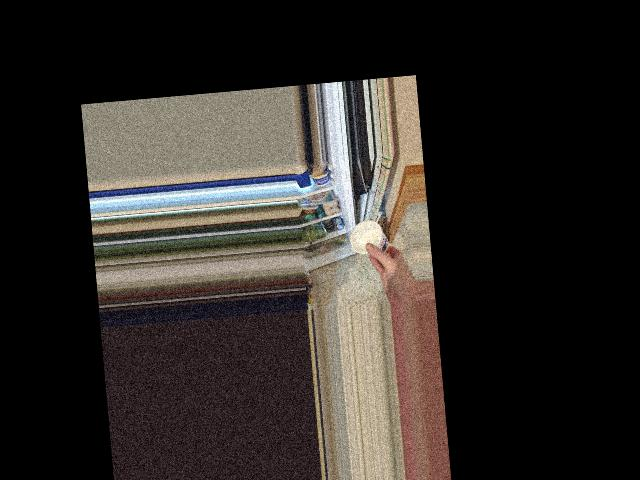cotage: (348, 216, 392, 258)
